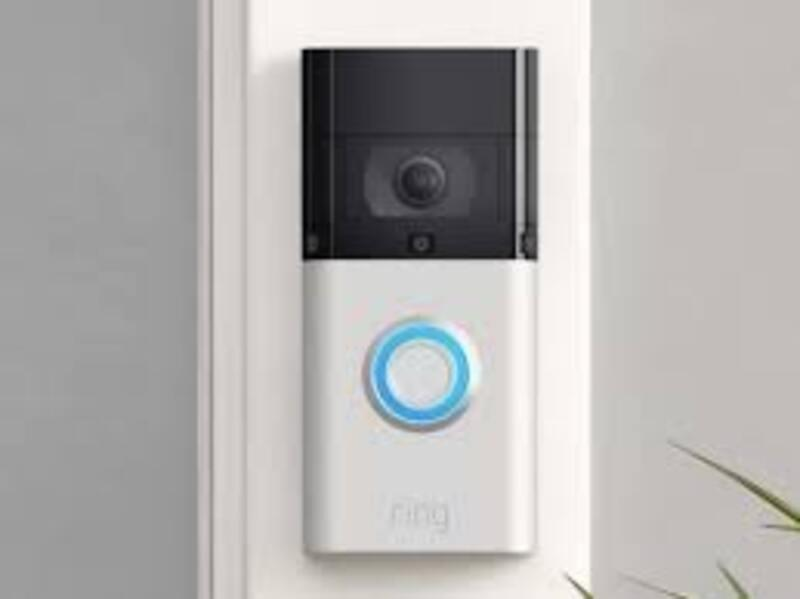doorbell: (292, 39, 545, 557)
